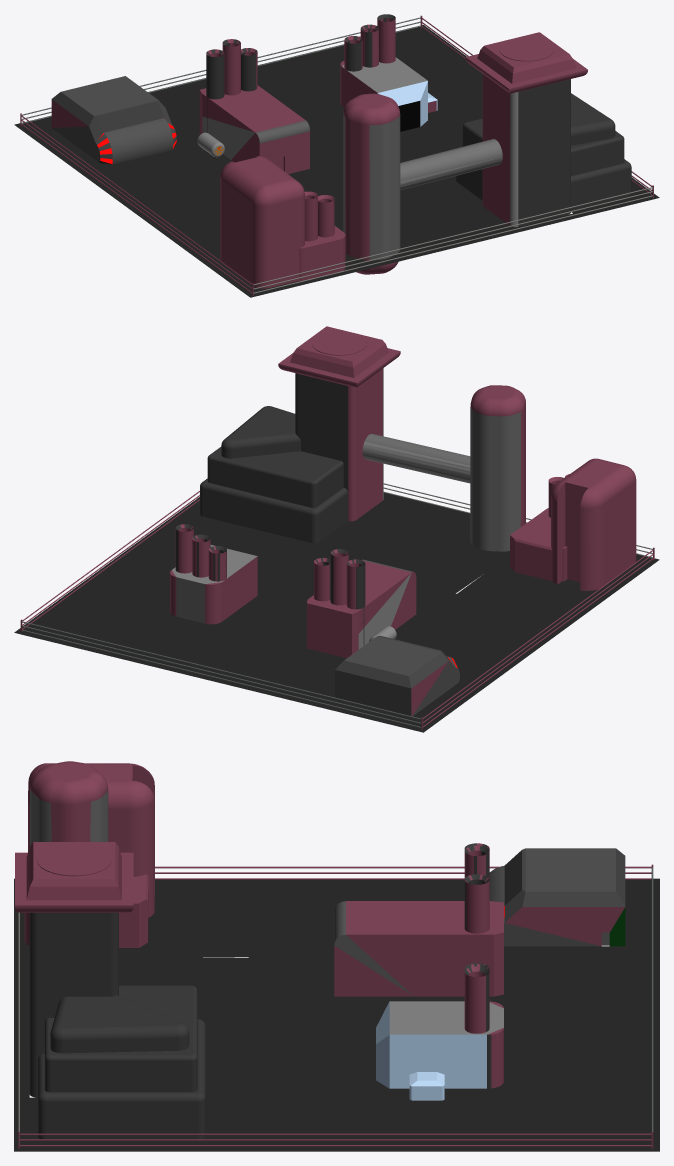
Rendered from world.glb.
3 views of the same model, one above another, from view 1: azimuth 30°, elevation 25°; view 2: azimuth 150°, elevation 25°; view 3: azimuth 270°, elevation 25° (orthographic). The views are drawn at different scales.
Visible parts, largest first — view 1: Extruded.010; view 2: Extruded.010; view 3: Extruded.010.
Part boxes in pixels (x1=…): Extruded.010: x1=14, y1=14, x2=659, y2=297; Extruded.010: x1=14, y1=326, x2=659, y2=732; Extruded.010: x1=14, y1=761, x2=659, y2=1151.
Bounding box in the file's own units: 201 × 84.09 × 201.
Materials: 1 (1 with a texture image).
